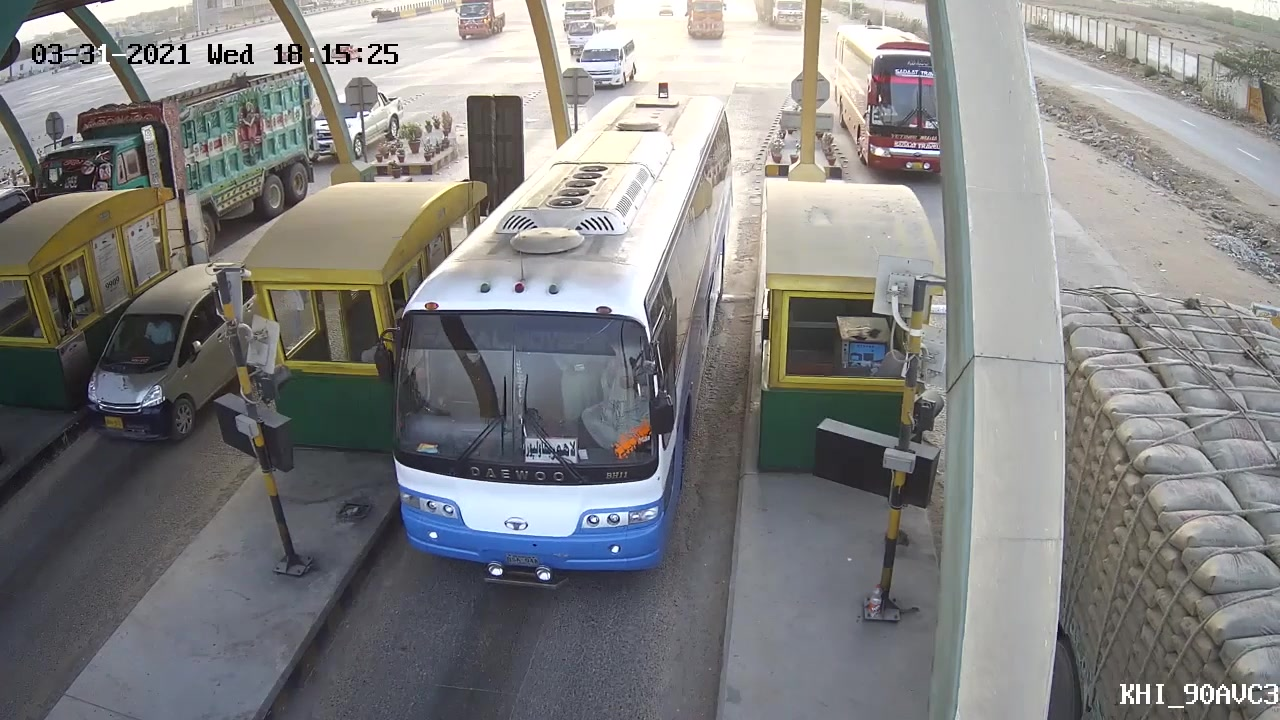F2: (486, 214, 708, 507)
